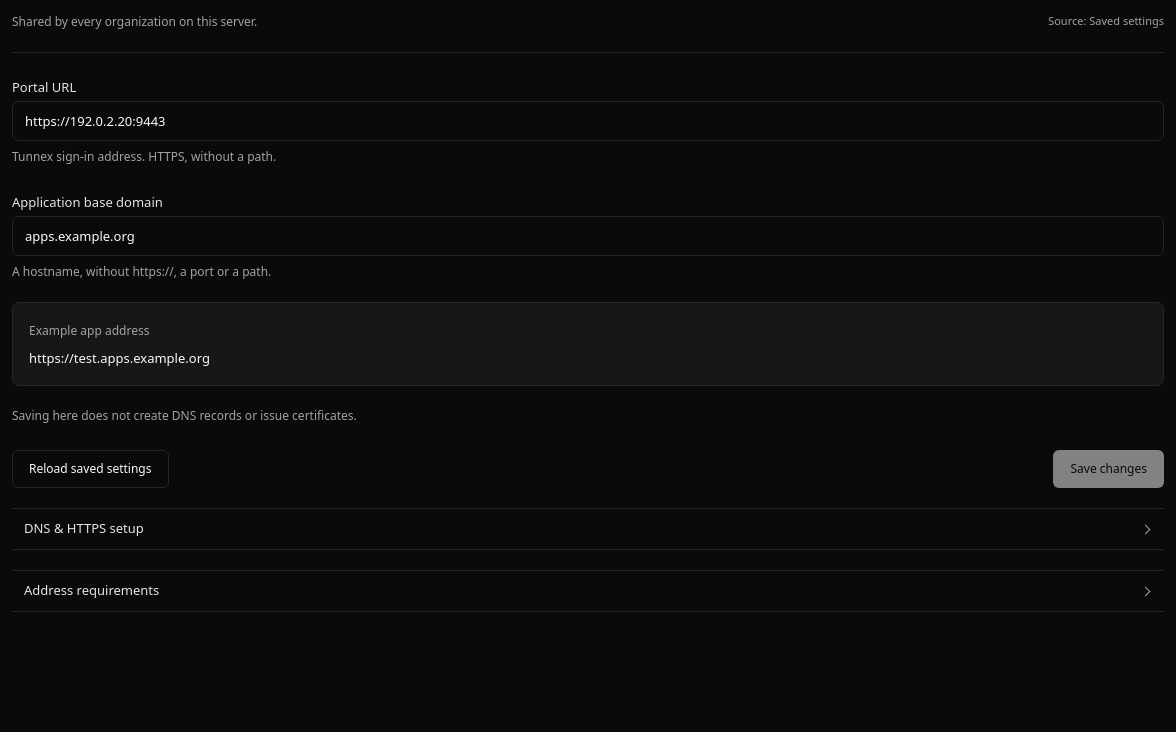
Test: server Applications domain settings › retains independent-domain and HTTPS IP portal configurations
Replace the text in the field labelled "Application base domain" with "private.example.org". click: [588, 236]
box: [12,216,1164,256]
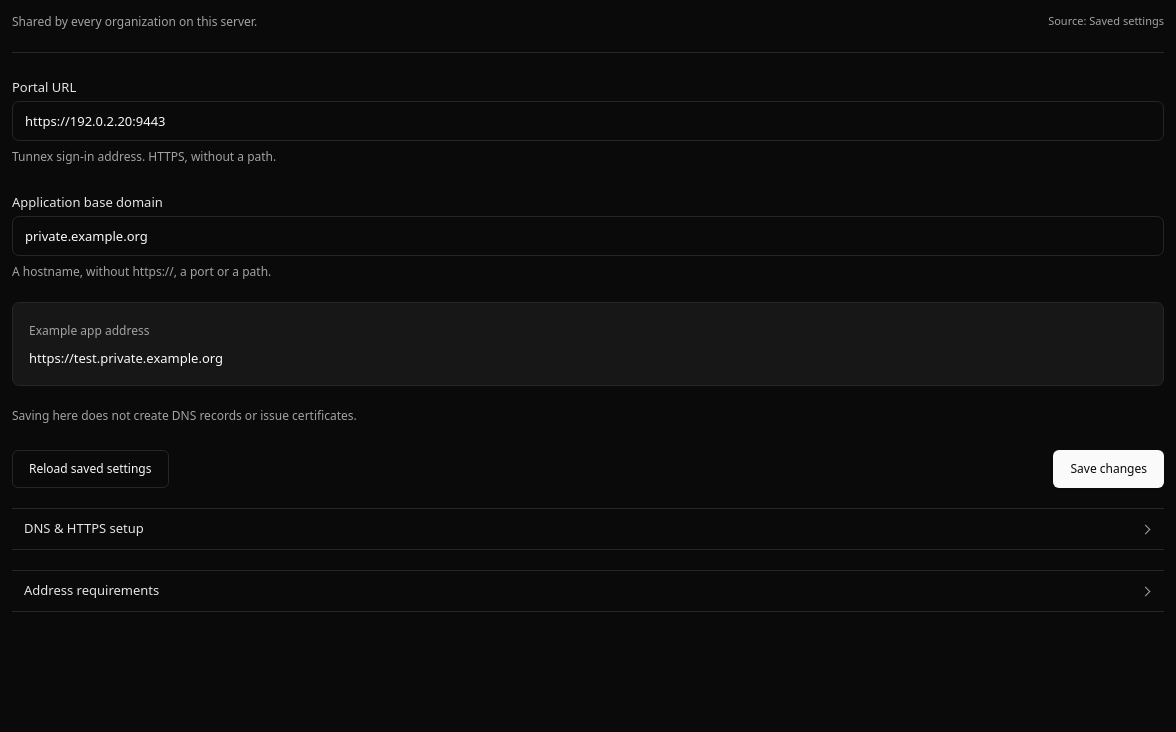
Click the button "Save changes". click: [1109, 469]
box: [1054,450,1164,488]
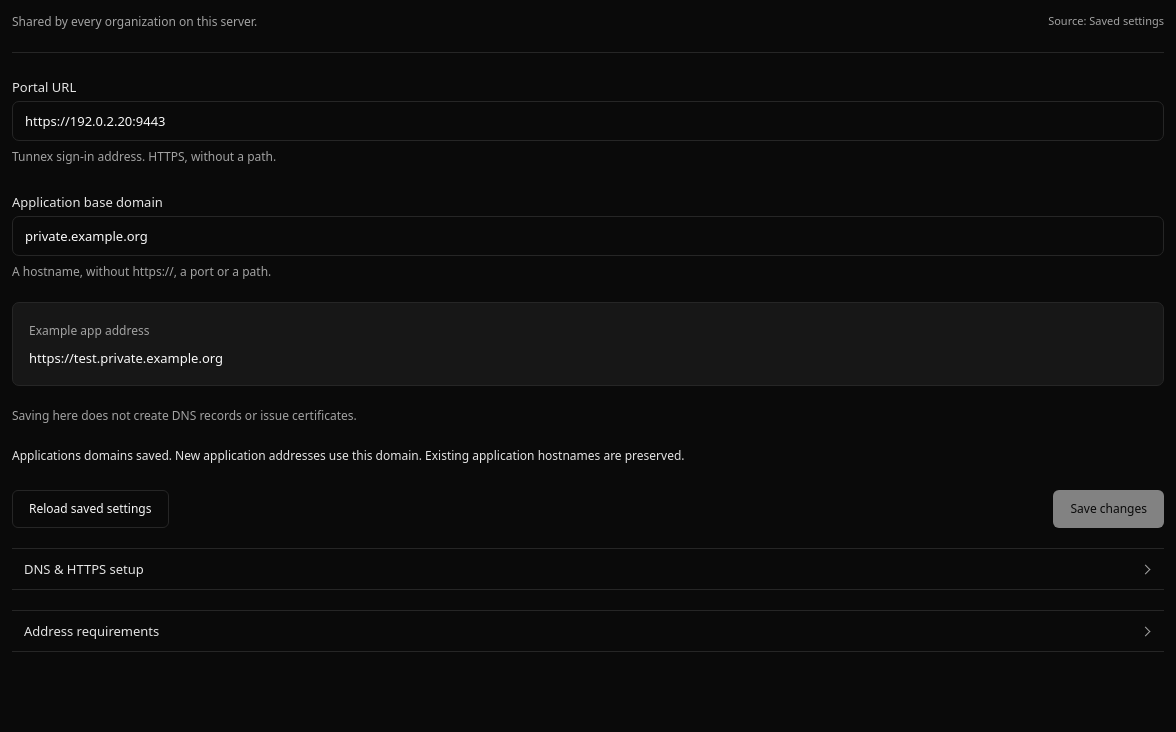
Expected: the message is shown, [12,447,684,464]
